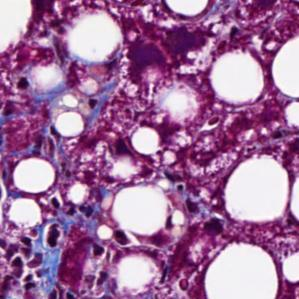inflammation: (0, 234, 48, 299), (42, 195, 98, 248), (180, 191, 228, 238)
